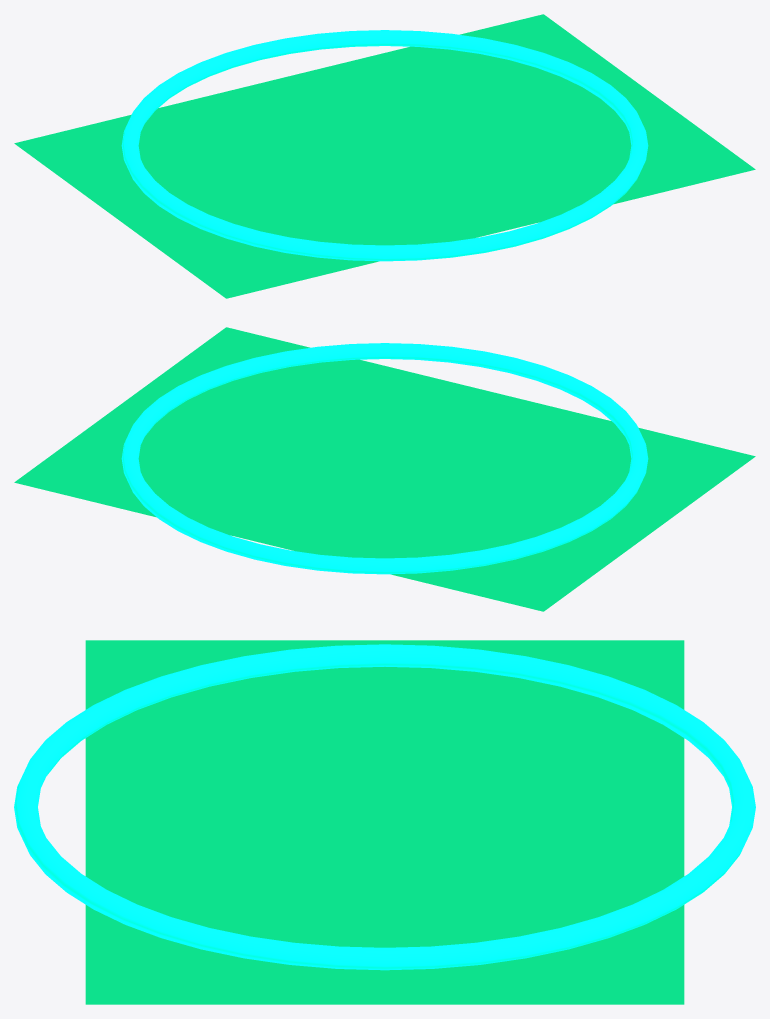
File: island-01-power__front-slot.glb
The picture shows the model from 3 angles, top to bottom: view 1: azimuth 30°, elevation 25°; view 2: azimuth 150°, elevation 25°; view 3: azimuth 270°, elevation 25°; orthographic projection. The views are drawn at different scales.
Visible parts, largest first — view 1: I01_FRONT_SLOT; view 2: I01_FRONT_SLOT; view 3: I01_FRONT_SLOT.
Boxes of the visible parts, x1,y1,x2,y2 form: I01_FRONT_SLOT: (14,14,755,298); I01_FRONT_SLOT: (14,327,755,611); I01_FRONT_SLOT: (14,640,755,1004).
Size of the model in its own units: 1.8 by 0.06 by 1.55.
